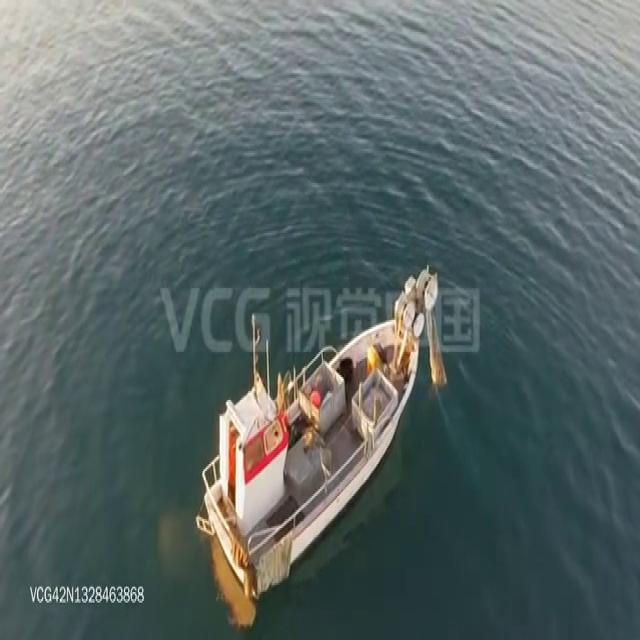houseboat: (198, 271, 442, 586)
